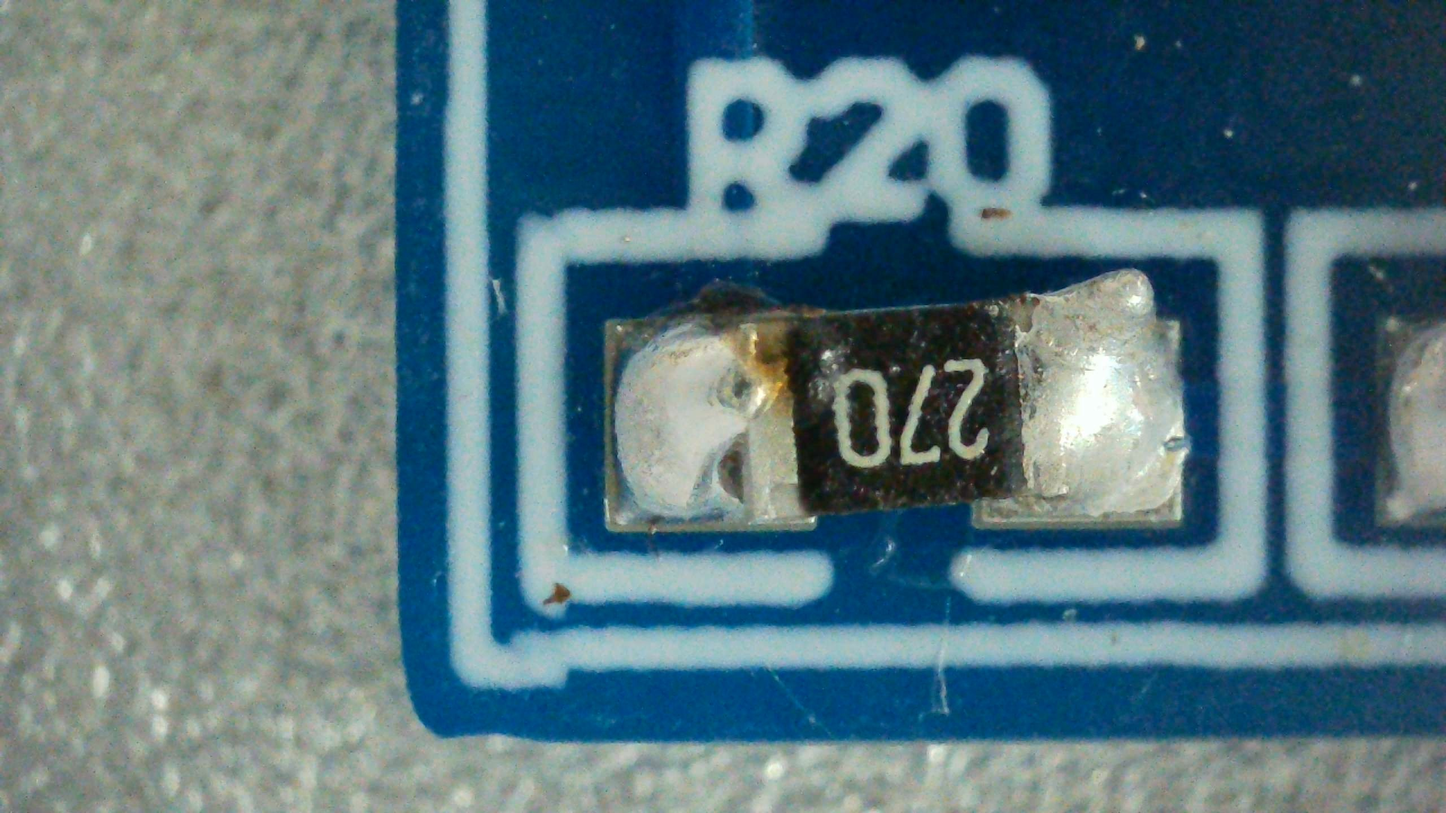NG: (607, 269, 1182, 529)
